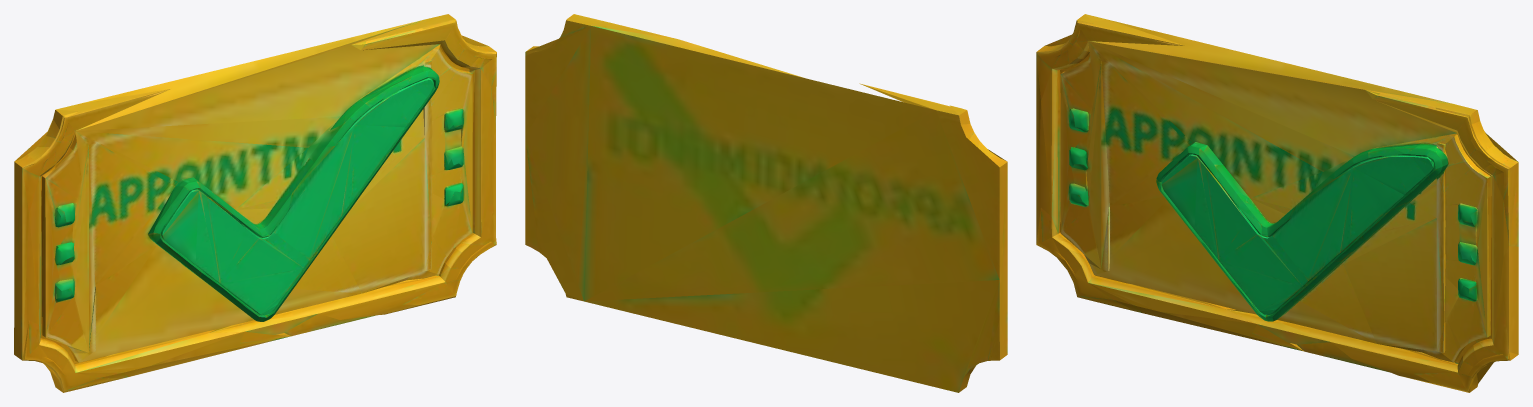
The model's file is termin.glb.
3 renders of one model, left to right at view 1: azimuth 30°, elevation 25°; view 2: azimuth 150°, elevation 25°; view 3: azimuth 330°, elevation 25°, orthographic.
Bounding box in the file's own units: 1.9 × 1.06 × 0.1099.
1 material, 1 textured.
